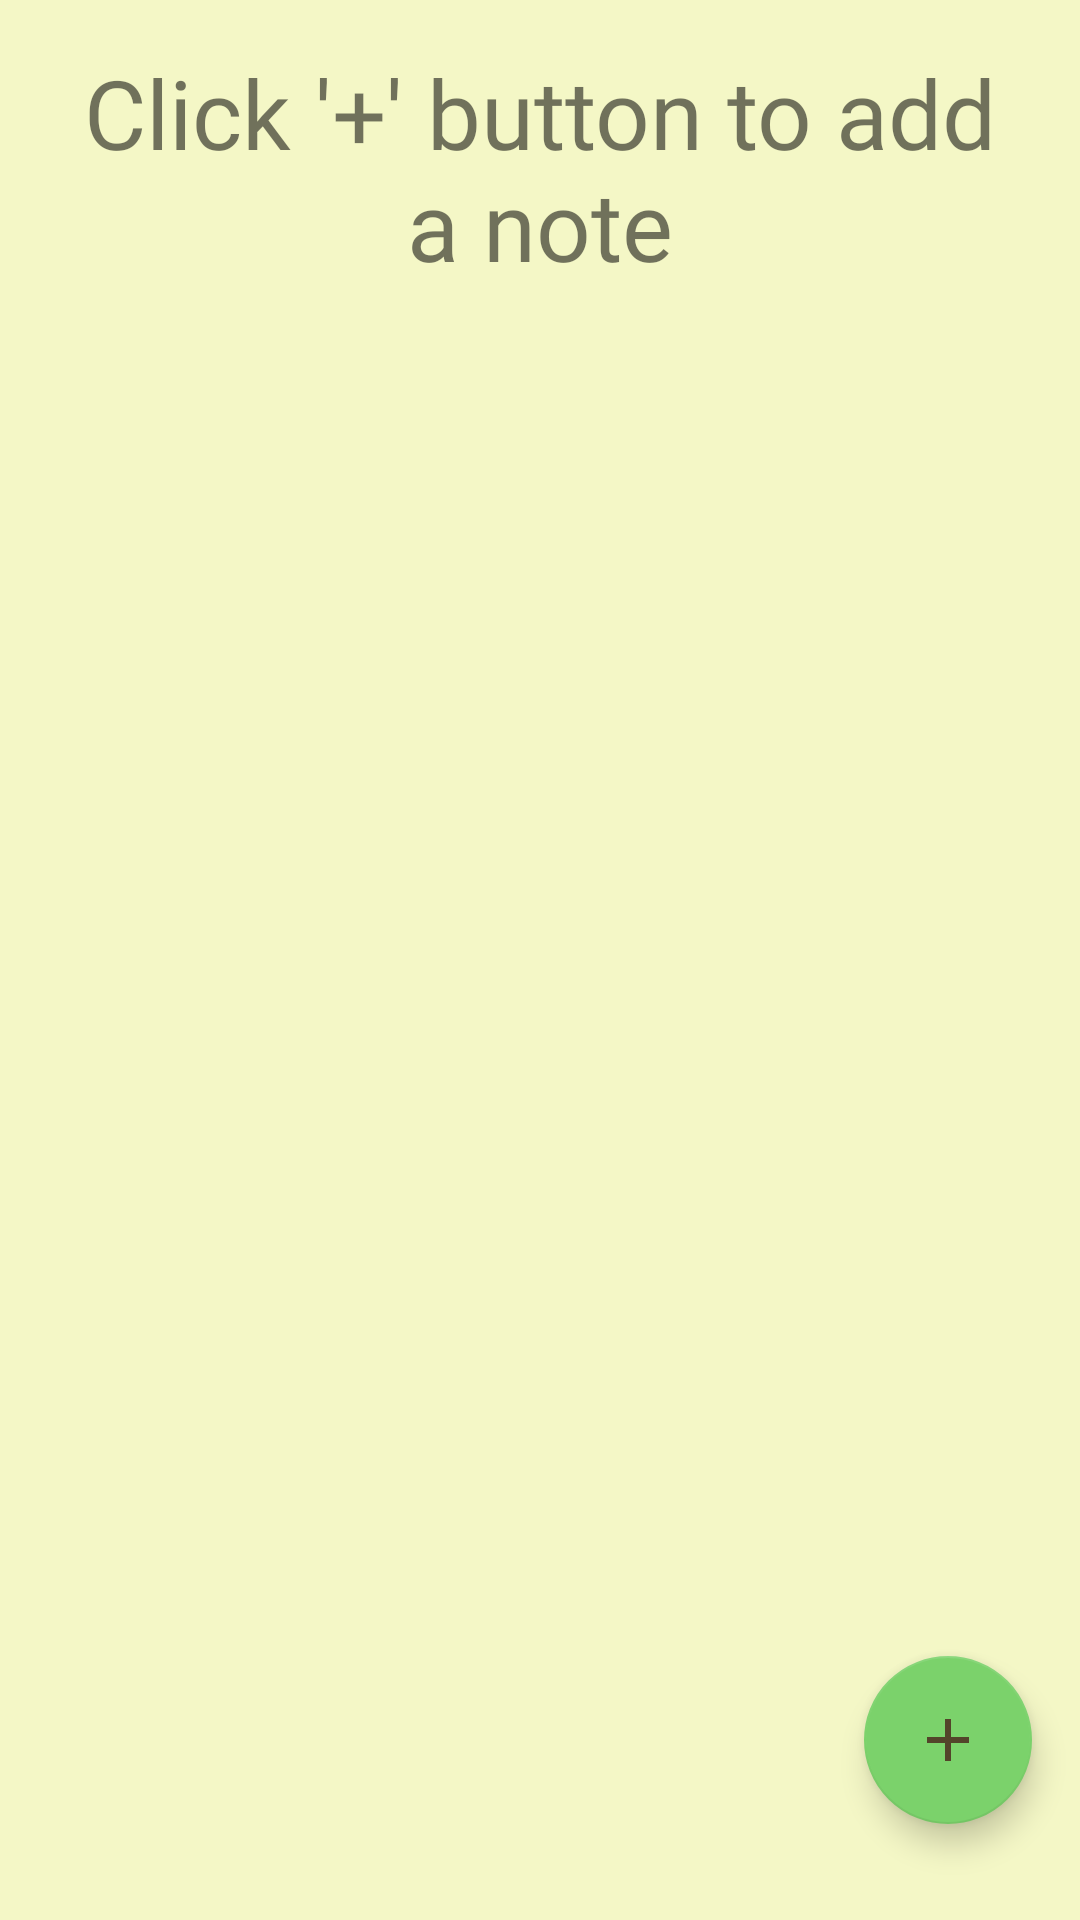

Point at icon controls on the screen. Image size 1080px×1920px, points as (x=x, y=y).
add: (x=948, y=1740)
